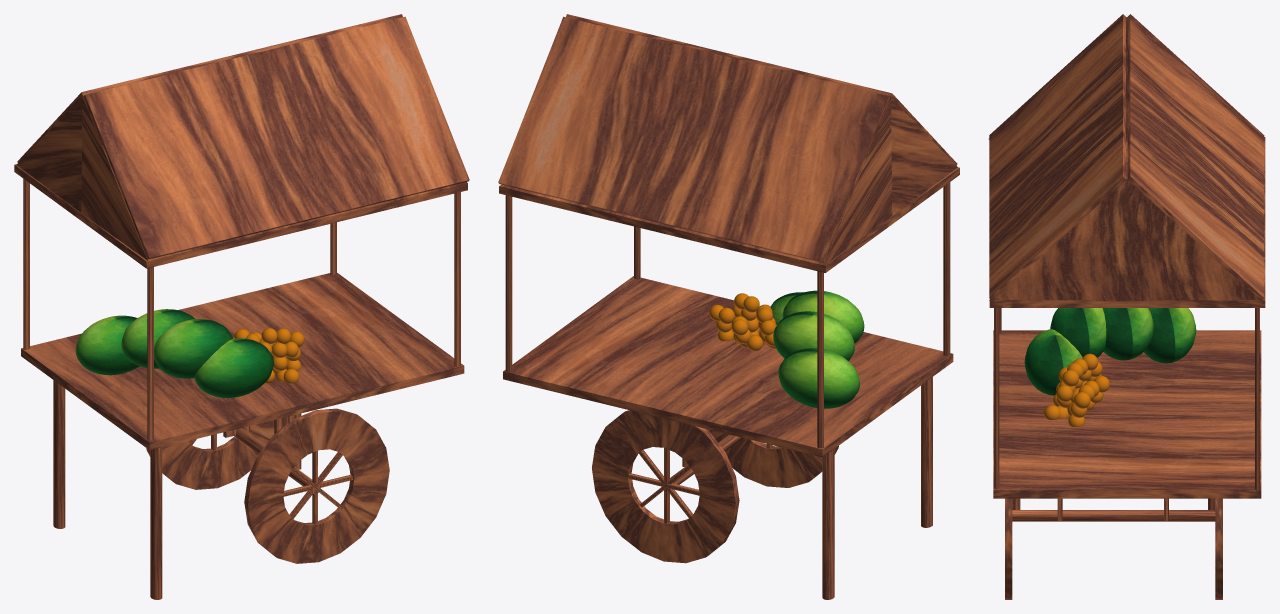
The model's file is fruit_cart.fbx.
3 renders of one model, left to right at view 1: azimuth 30°, elevation 25°; view 2: azimuth 150°, elevation 25°; view 3: azimuth 270°, elevation 25°, orthographic. The views are drawn at different scales.
Parts seen in each view (by area): view 1: pPipe11; view 2: pPipe11; view 3: pPipe11.
Boxes of the visible parts, x1,y1,x2,y2 form: pPipe11: (14, 14, 469, 599); pPipe11: (498, 14, 959, 599); pPipe11: (988, 14, 1265, 599).
Size of the model in its own units: 48.91 by 67.88 by 34.97.
Materials: 3 (3 with a texture image).
